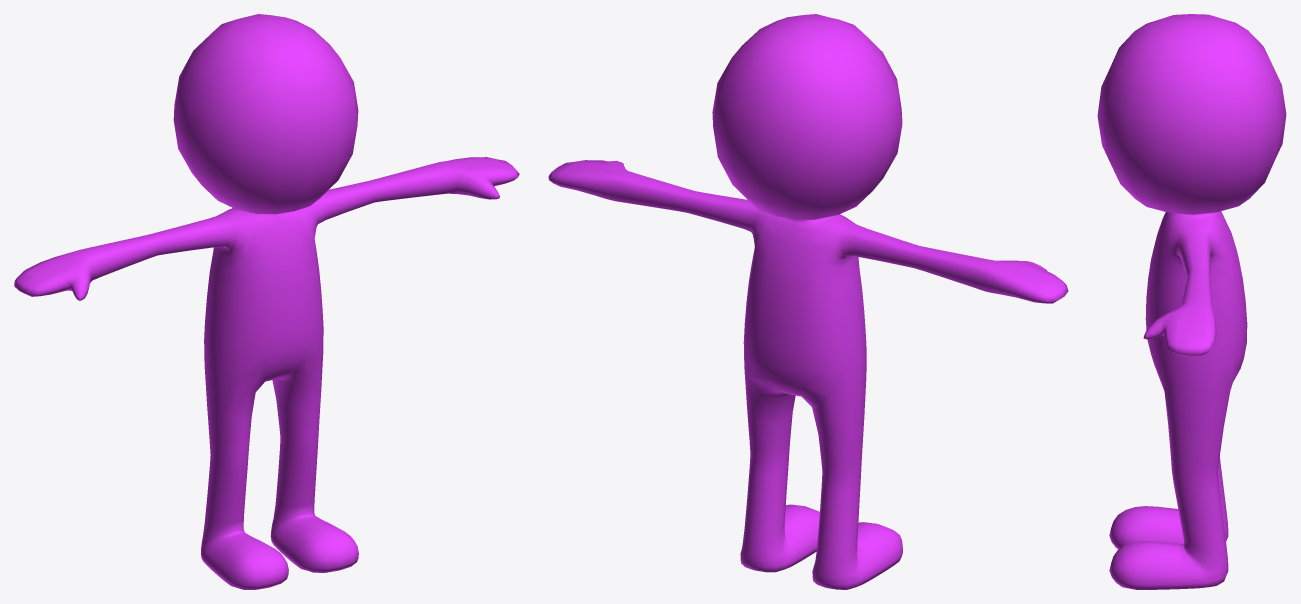
The model's file is Stikman.fbx.
The picture shows the model from 3 angles, left to right: view 1: azimuth 30°, elevation 25°; view 2: azimuth 150°, elevation 25°; view 3: azimuth 270°, elevation 25°; orthographic projection. The views are drawn at different scales.
Visible parts, largest first — view 1: Stikman; view 2: Stikman; view 3: Stikman.
Boxes of the visible parts, x1=… form: Stikman: x1=14, y1=14, x2=519, y2=589; Stikman: x1=548, y1=14, x2=1068, y2=589; Stikman: x1=1097, y1=14, x2=1286, y2=589.
Bounding box in the file's own units: 64.32 × 65.56 × 20.82.
